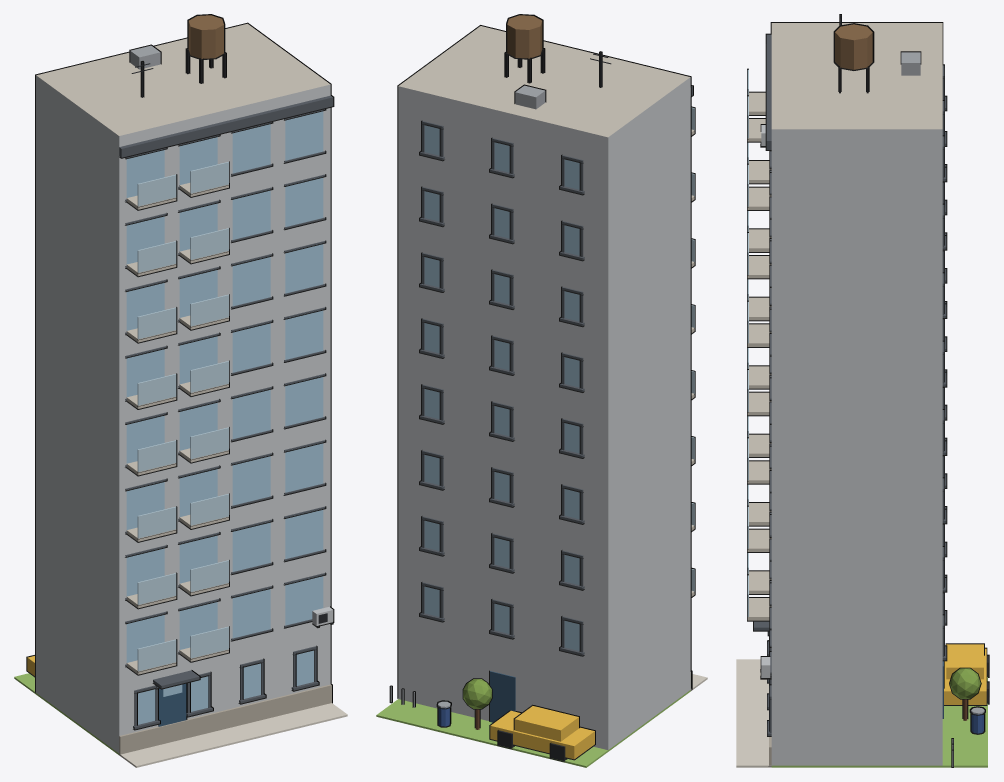
File: Blok_duz_9k_1.fbx
The picture shows the model from 3 angles, left to right: view 1: azimuth 30°, elevation 25°; view 2: azimuth 150°, elevation 25°; view 3: azimuth 270°, elevation 25°; orthographic projection. The views are drawn at different scales.
Visible parts, largest first — view 1: Blok_duz_9k_1; view 2: Blok_duz_9k_1; view 3: Blok_duz_9k_1.
Boxes of the visible parts, x1,y1,x2,y2 form: Blok_duz_9k_1: (14,14,347,767); Blok_duz_9k_1: (376,14,707,767); Blok_duz_9k_1: (736,14,989,767).
Bounding box in the file's own units: 10.18 × 30.41 × 10.07.
